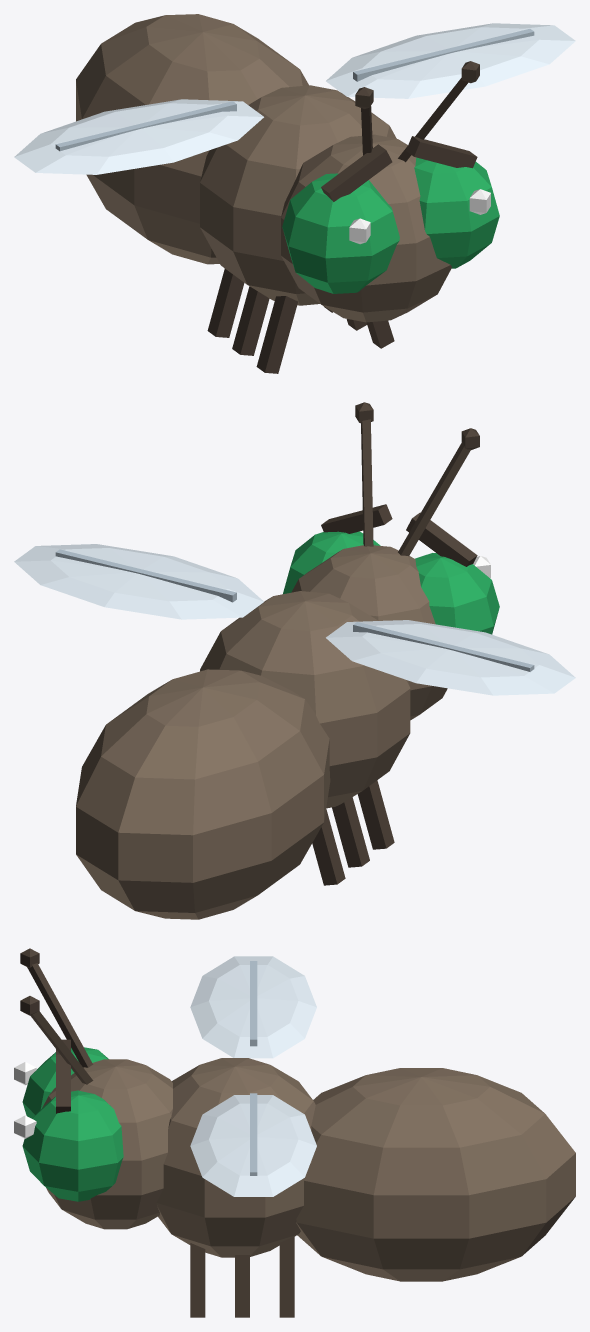
Rendered from bremse.glb.
3 renders of one model, top to bottom at view 1: azimuth 30°, elevation 25°; view 2: azimuth 150°, elevation 25°; view 3: azimuth 270°, elevation 25°, orthographic. The views are drawn at different scales.
Visible parts, largest first — view 1: body-m, wing-0-m, wing-1-m; view 2: body-m, wing-0-m, wing-1-m; view 3: body-m, wing-0-m, wing-1-m.
Part boxes in pixels (x1,y1,x2,y2): body-m: (76,14,499,373); wing-0-m: (14,99,263,174); wing-1-m: (326,23,575,98); body-m: (76,402,499,919); wing-0-m: (326,620,575,695); wing-1-m: (14,544,263,619); body-m: (14,948,575,1317); wing-0-m: (190,956,316,1058); wing-1-m: (190,1093,316,1196).
Bounding box in the file's own units: 1.53 × 0.9492 × 1.51.
